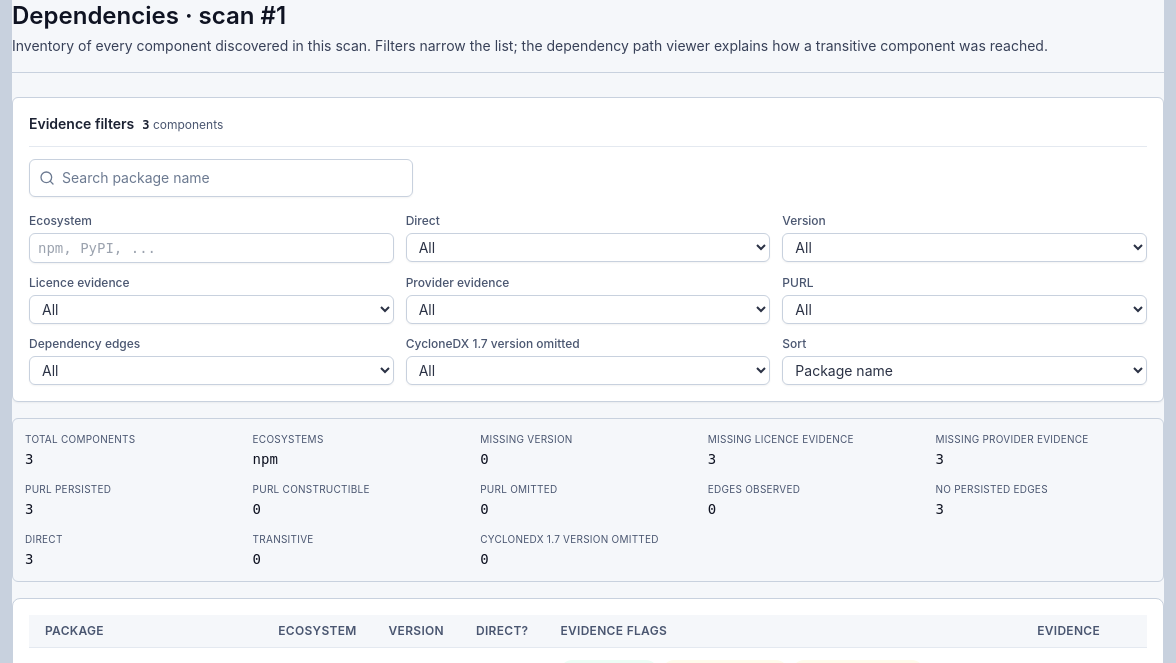
Scenario: v0.9 evidence-aware search and filtering › Clear button is hidden in default state and appears when a filter changes
Type "left" into the search field with placeholder "Search package name" at (221, 178), box x1=29 y1=159 x2=413 y2=197
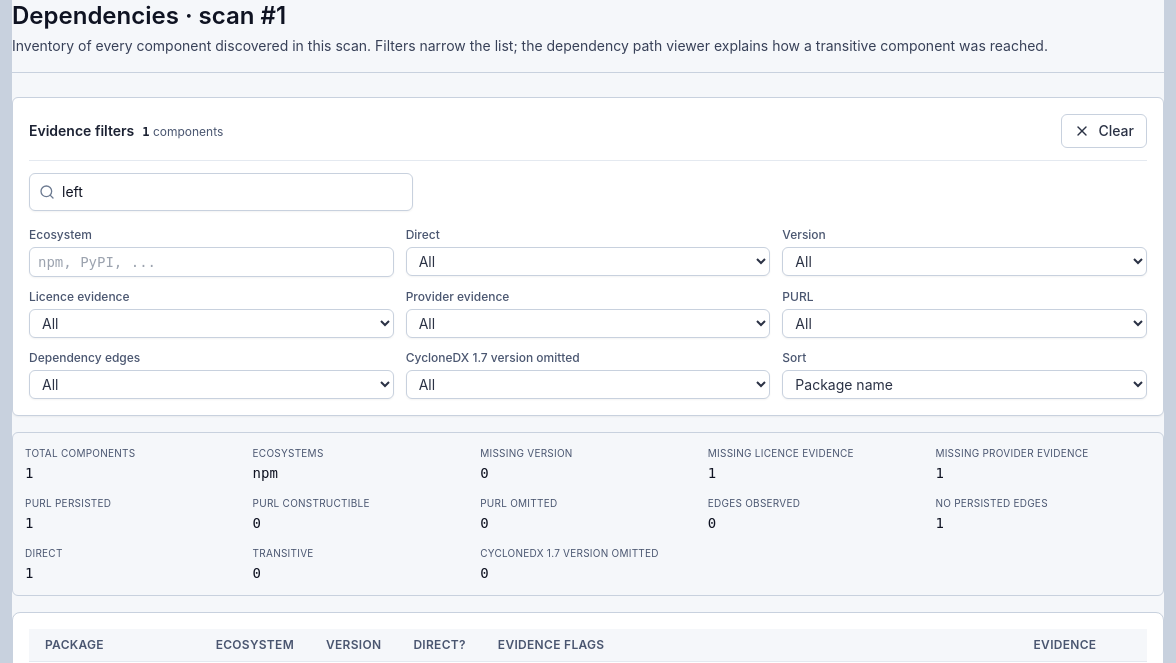
Expected: the button with test id "filterbar-clear" is shown
Click the button with test id "filterbar-clear" at (1104, 131), box x1=1062 y1=114 x2=1147 y2=148
(page scrolled)
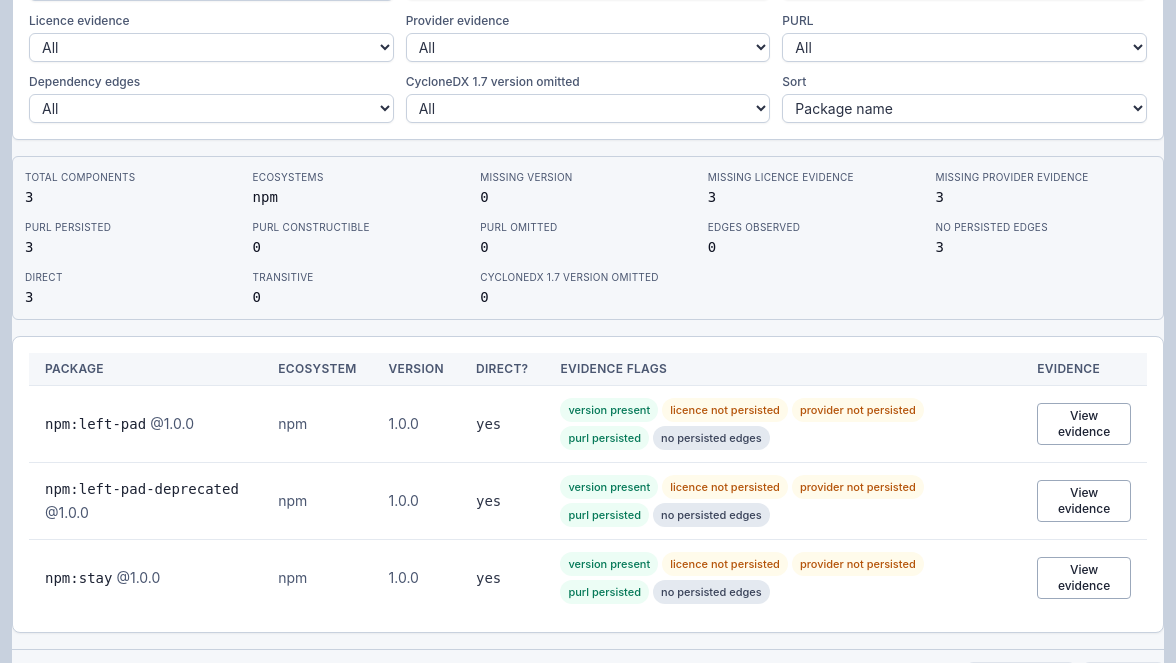
Expected: the button with test id "filterbar-clear" is gone
Expected: the button with test id "component-evidence-button-3" is shown, x1=1037 y1=557 x2=1131 y2=599
